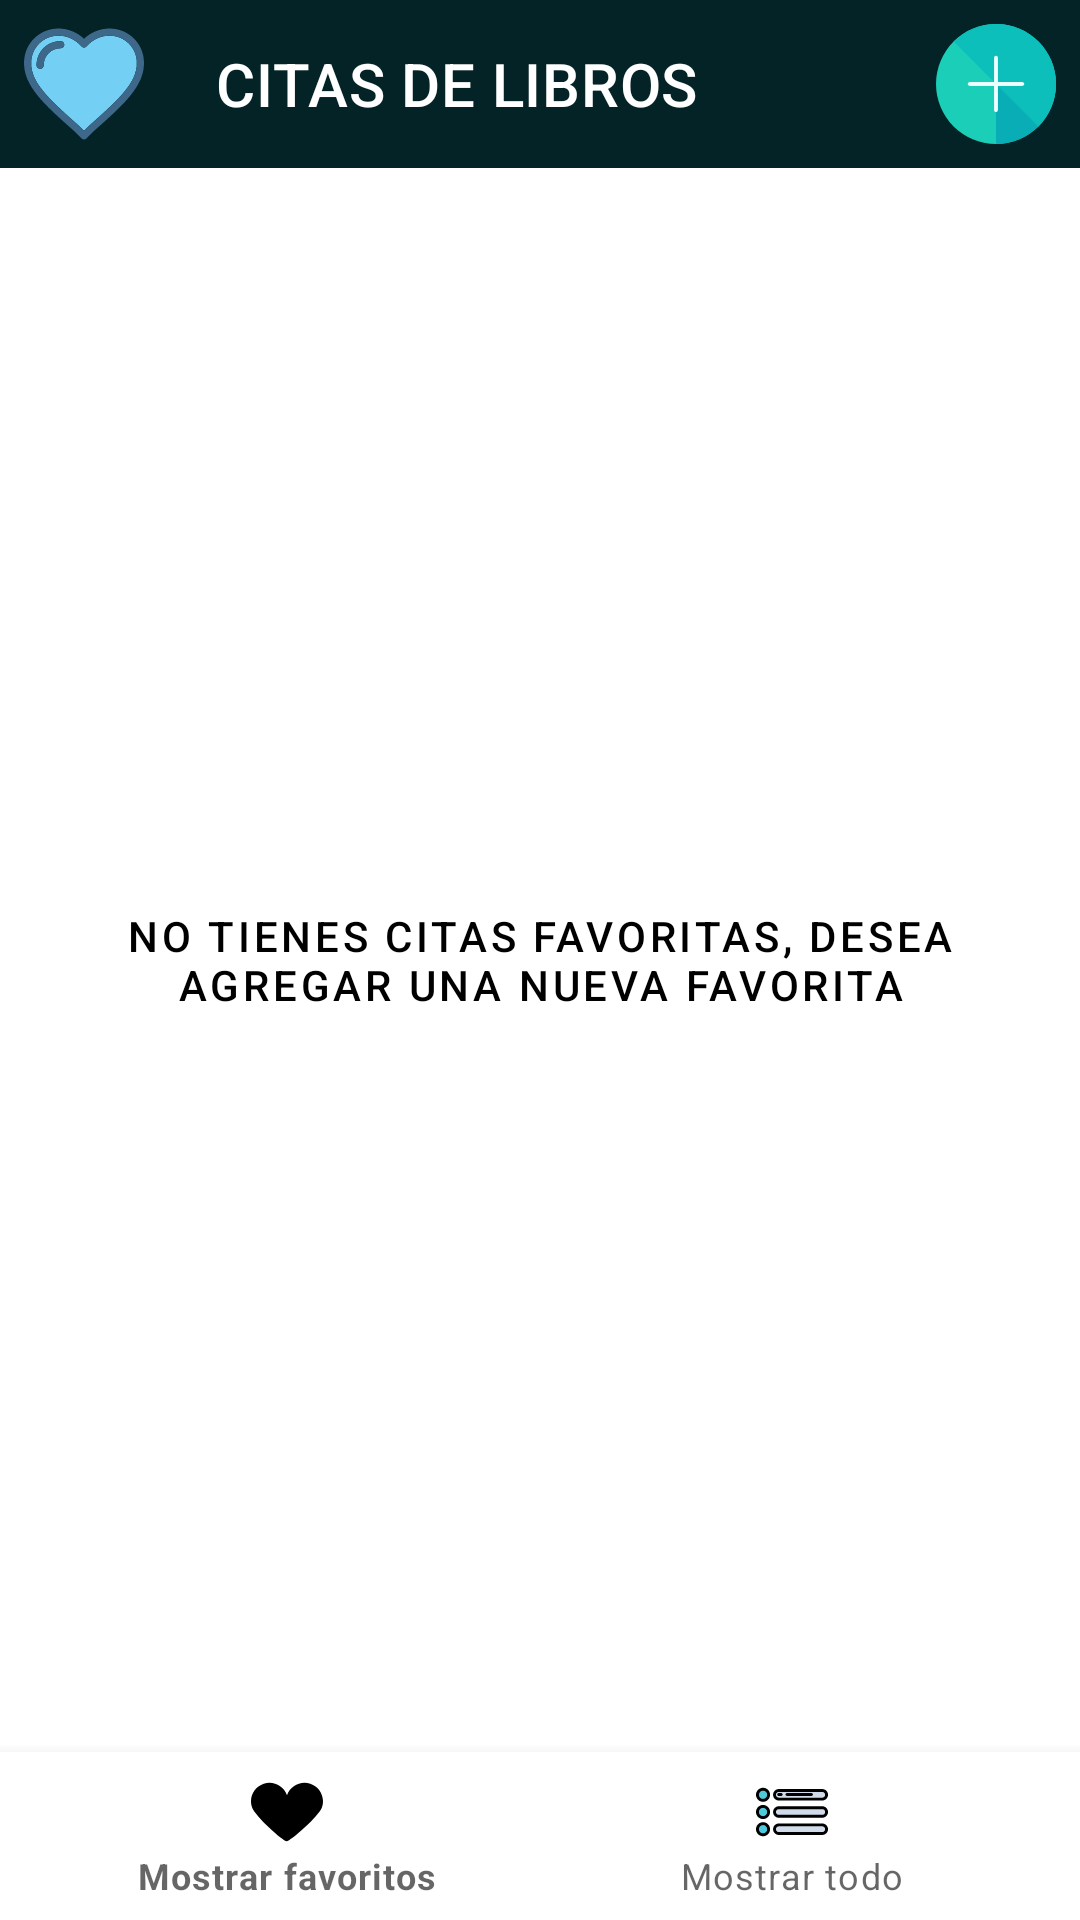

Where to tap for icons on this 1080px×1920px app screen, as point (x, y):
add quote fav: point (996, 84)
